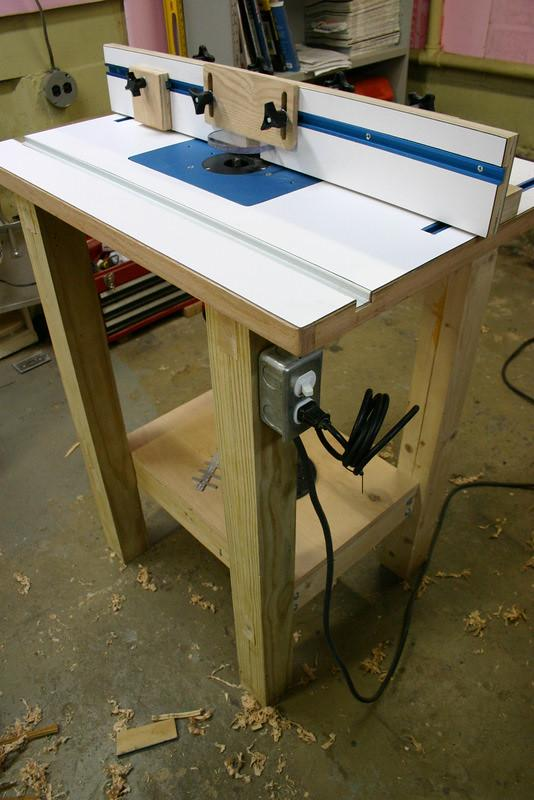table: (2, 47, 534, 715)
